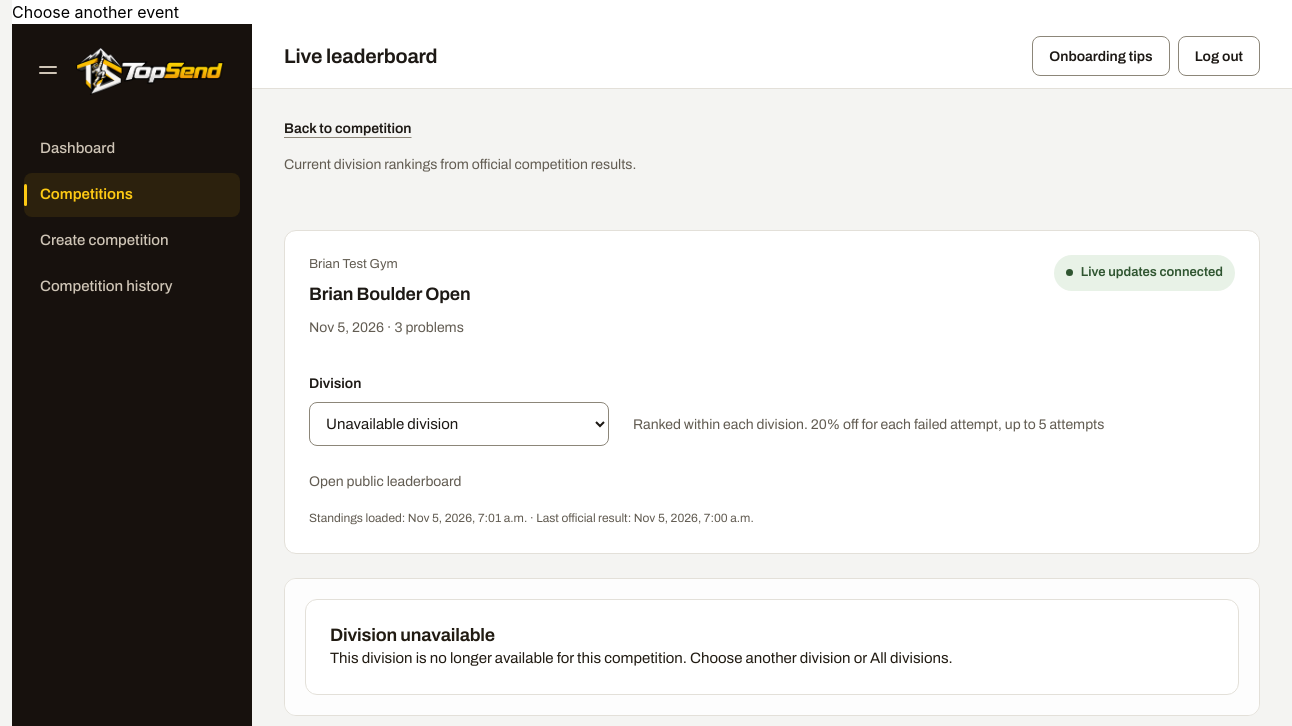
Test case: US-020 #173/#174 leaderboard page and live state › explains a removed division and allows choosing All divisions
Expected: the heading "Division unavailable" is shown, [330,625,495,645]
Select "All divisions" in the dropdown labelled "Division" at (459,424), box [309,402,609,446]
(page scrolled)
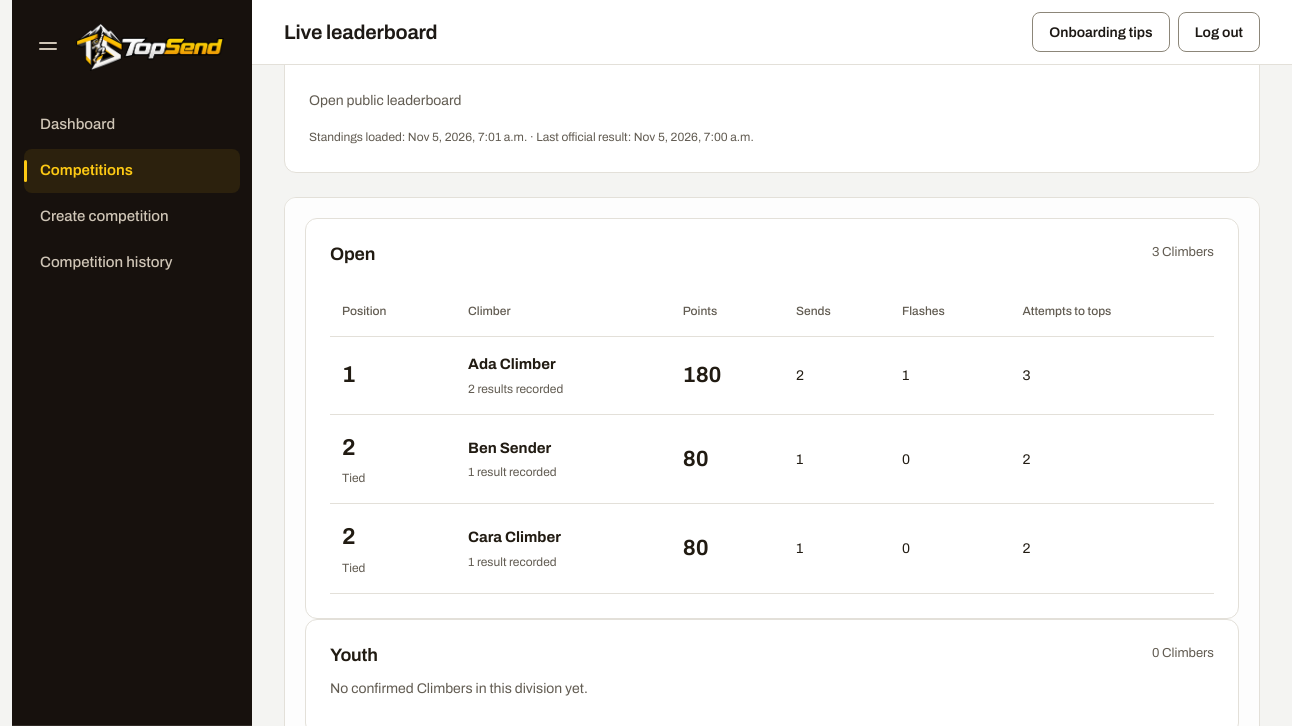
Expected: the table named "Open rankings" is shown, [330,286,1214,594]
